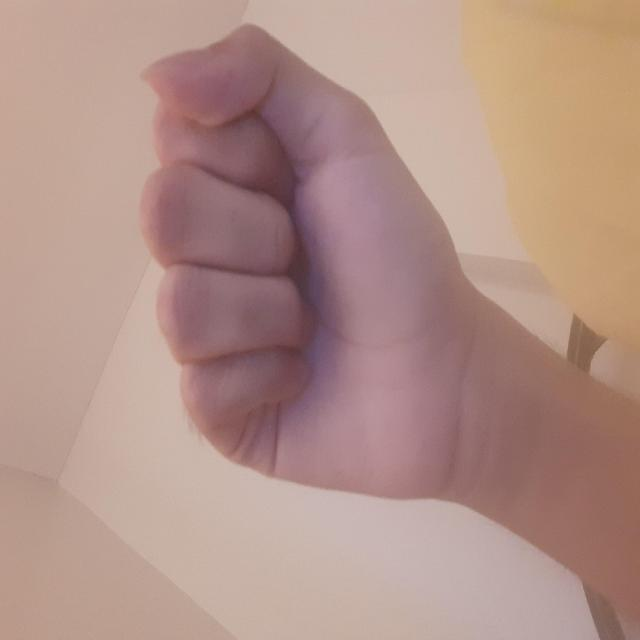A: (140, 142, 616, 453)
